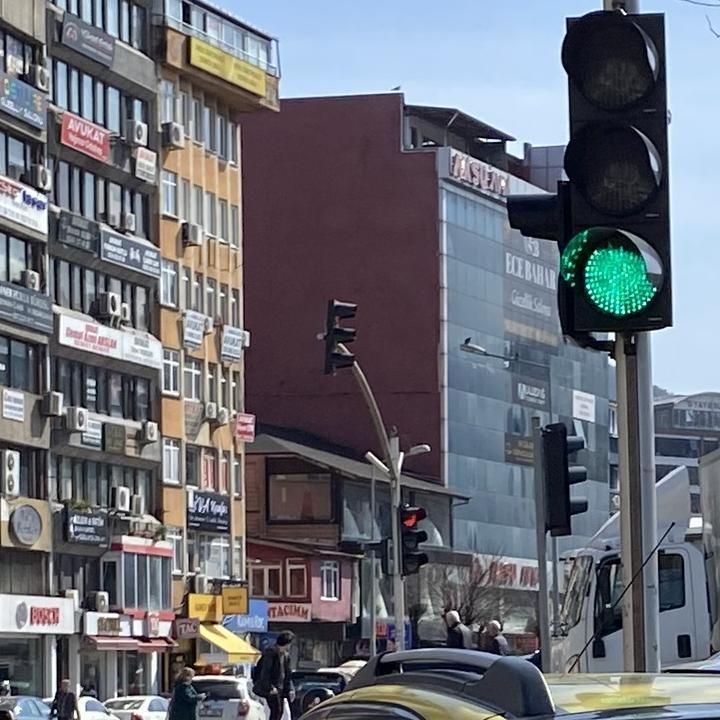green: (553, 9, 670, 334)
